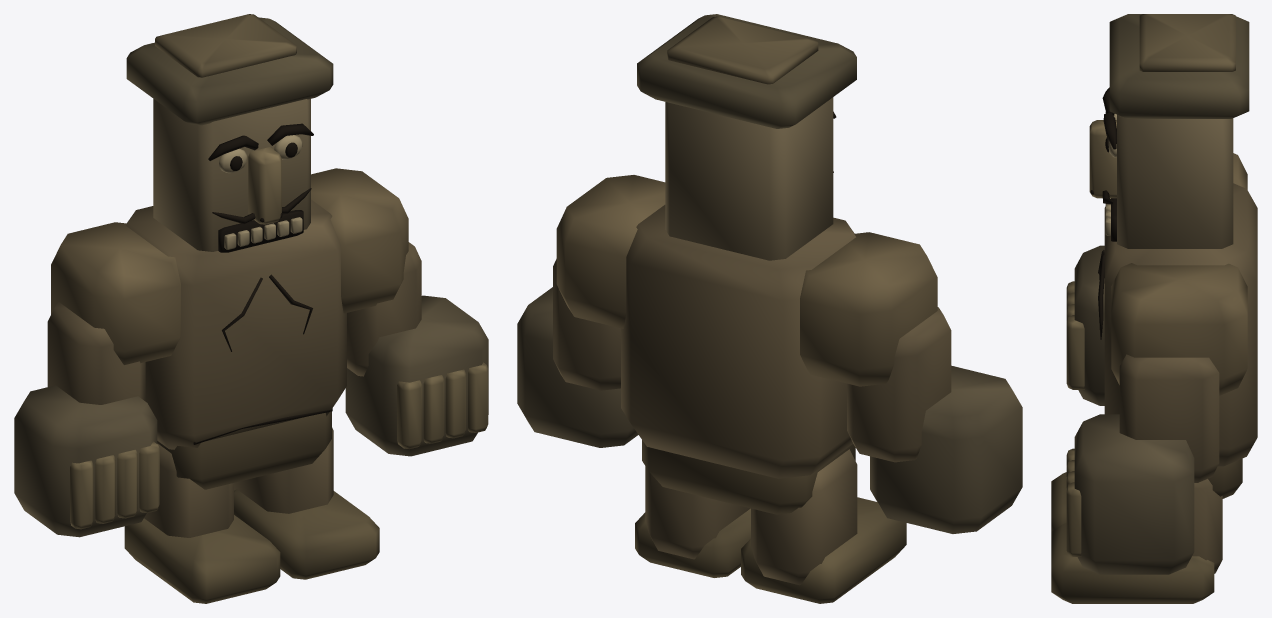
File: StoneGuardian_Jangseung_B1.fbx
The picture shows the model from 3 angles, left to right: view 1: azimuth 30°, elevation 25°; view 2: azimuth 150°, elevation 25°; view 3: azimuth 270°, elevation 25°; orthographic projection. The views are drawn at different scales.
Visible parts, largest first — view 1: StoneGuardian_Jangseung_B1; view 2: StoneGuardian_Jangseung_B1; view 3: StoneGuardian_Jangseung_B1.
Boxes of the visible parts, x1,y1,x2,y2 form: StoneGuardian_Jangseung_B1: (14,14,488,603); StoneGuardian_Jangseung_B1: (517,14,1022,603); StoneGuardian_Jangseung_B1: (1051,14,1257,603).
Size of the model in its own units: 0.9096 by 1 by 0.3569.
